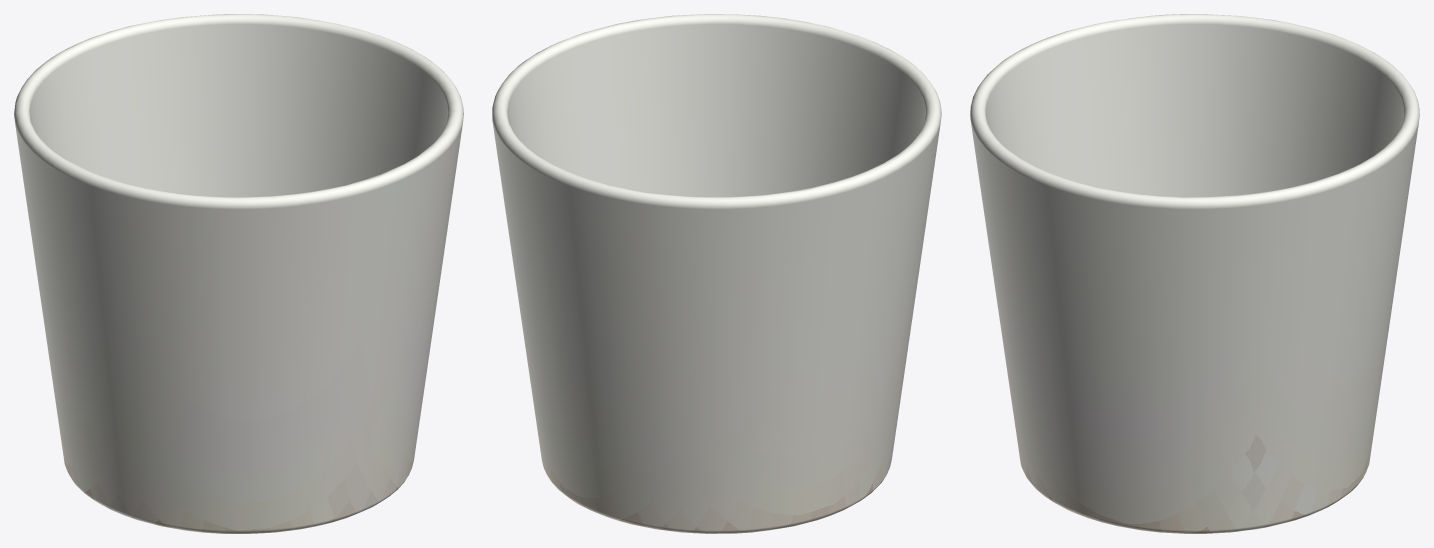
Rendered from 05 - SOJABÖNA - 花盆，白色，9 公分 IKEA 線上購物.glb.
3 views of the same model, side by side, from view 1: azimuth 30°, elevation 25°; view 2: azimuth 150°, elevation 25°; view 3: azimuth 270°, elevation 25° (orthographic).
Visible parts, largest first — view 1: model; view 2: model; view 3: model.
Part boxes in pixels (x1,y1,x2,y2): model: (14, 14, 463, 533); model: (492, 14, 941, 533); model: (970, 14, 1419, 533).
Size of the model in its own units: 0.1132 by 0.099 by 0.1132.
1 material, 1 textured.
